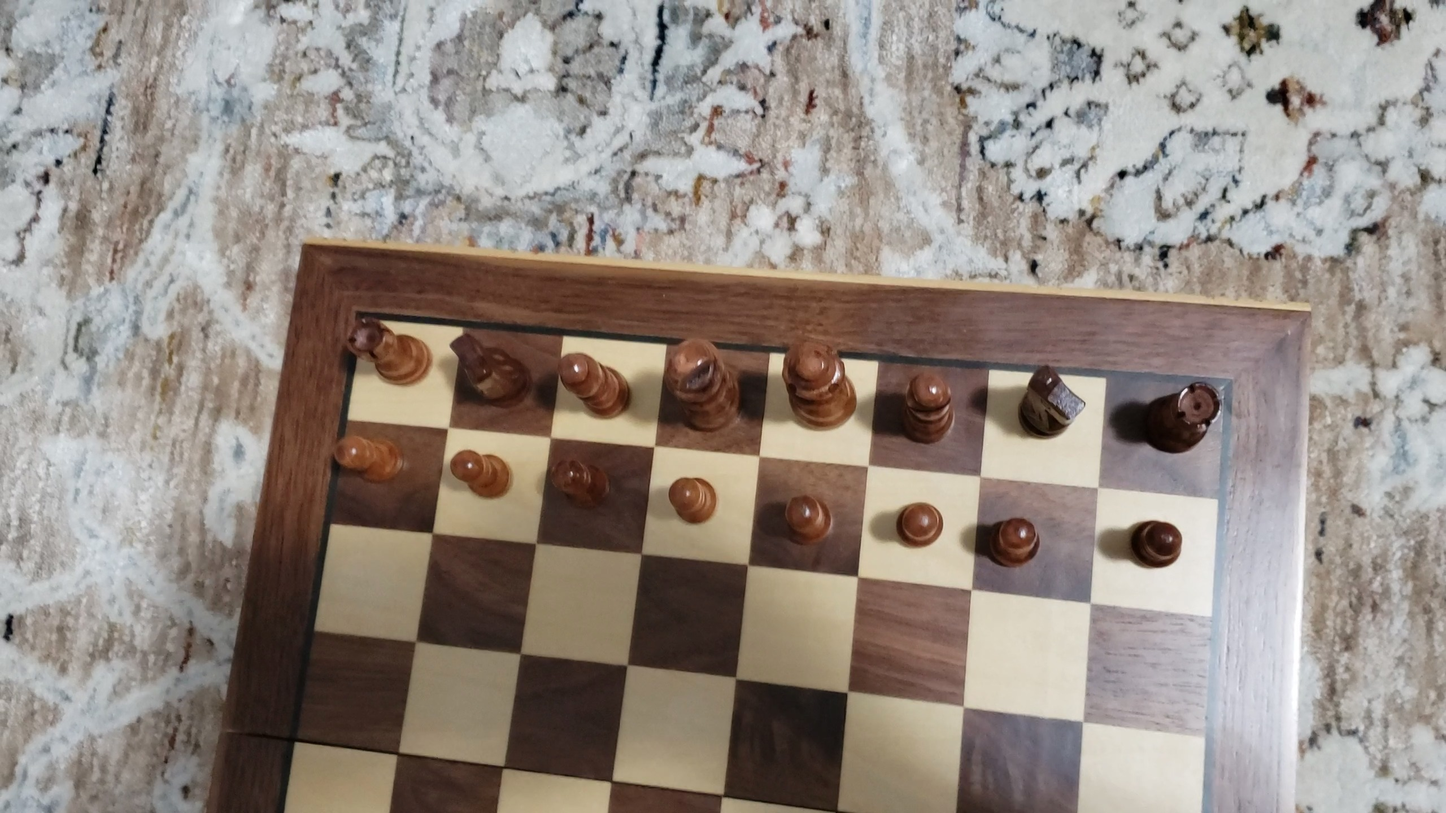black-bishop: (897, 366, 966, 453), (557, 349, 631, 421)
black-king: (660, 338, 741, 433)
black-knight: (1010, 356, 1093, 453), (450, 332, 532, 407)
black-pawn: (330, 428, 407, 493), (981, 507, 1051, 576), (1123, 513, 1190, 579), (549, 456, 616, 516), (660, 465, 722, 529), (449, 447, 518, 504), (892, 492, 951, 558), (775, 489, 836, 545)
black-queen: (782, 340, 857, 431)
black-rook: (1133, 370, 1232, 466), (344, 315, 435, 390)
